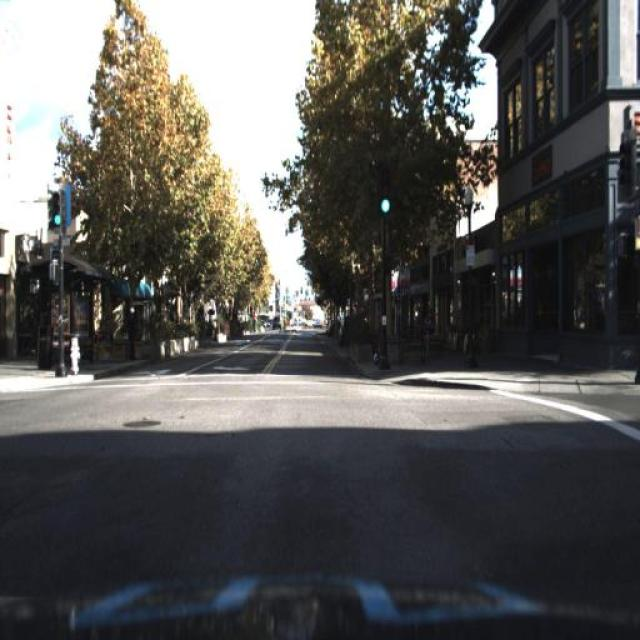trafficLight: (422, 299, 438, 353), (125, 300, 137, 366)
trafficLight-Green: (376, 162, 396, 219)
trafficLight-GreenLeft: (50, 181, 64, 228)
